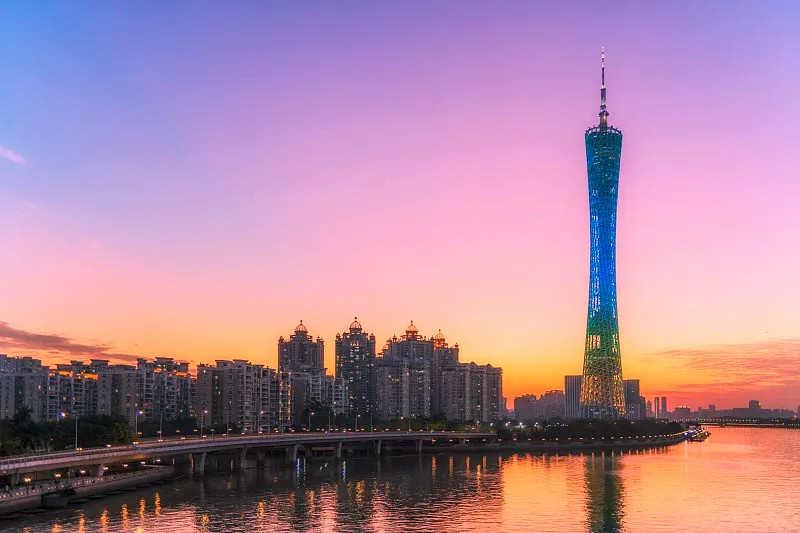Canton: (576, 44, 632, 420)
